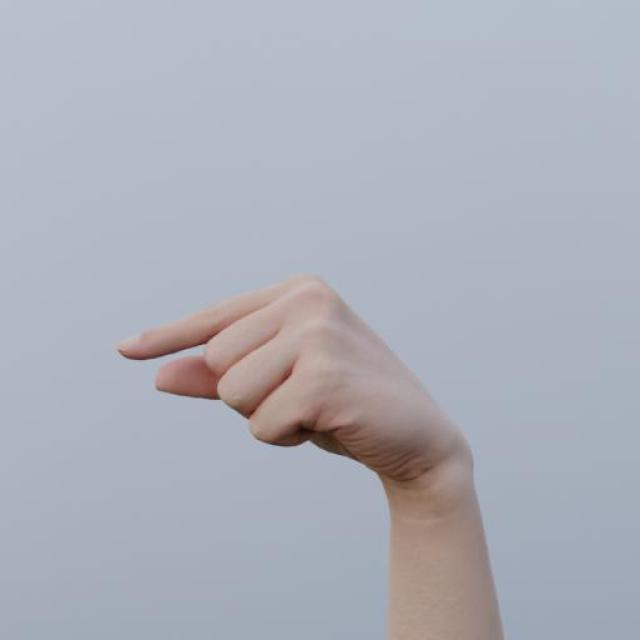G: (113, 268, 477, 483)
